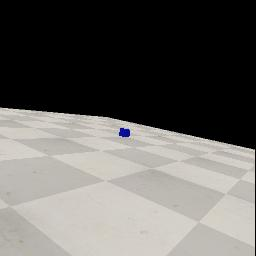box: (119, 128, 130, 137)
